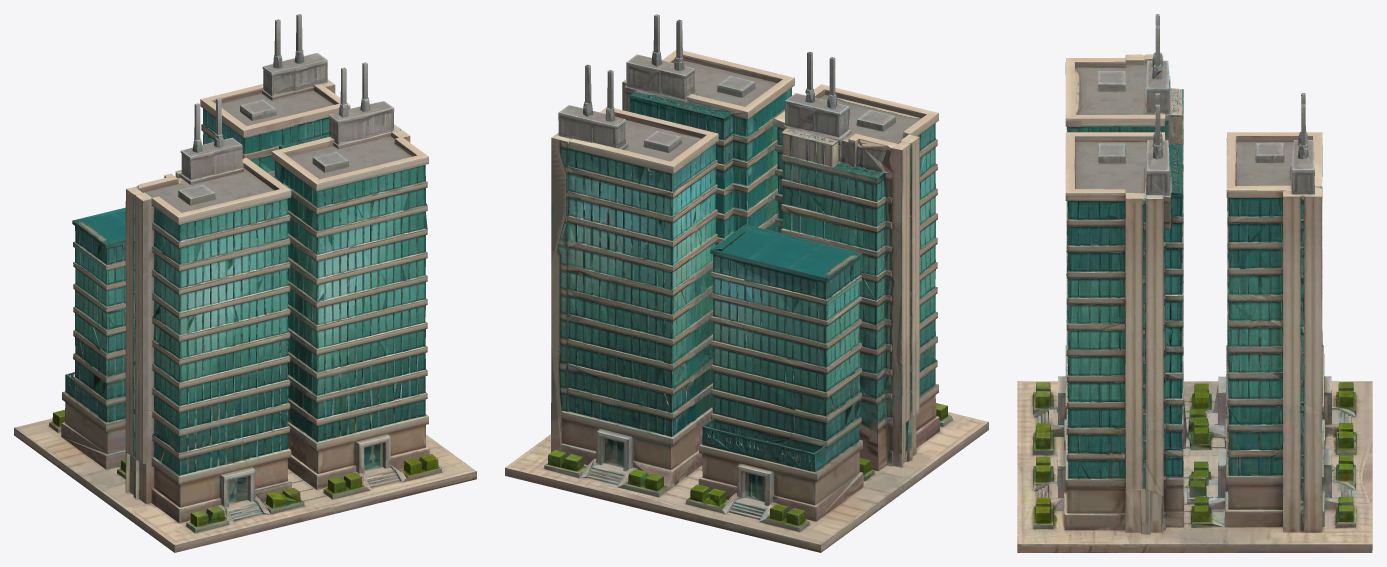
Rendered from town_office_tower_modern.glb.
The picture shows the model from 3 angles, left to right: view 1: azimuth 30°, elevation 25°; view 2: azimuth 150°, elevation 25°; view 3: azimuth 270°, elevation 25°; orthographic projection. The views are drawn at different scales.
Parts seen in each view (by area): view 1: normalize; view 2: normalize; view 3: normalize.
Boxes of the visible parts, <box> form: normalize: <box>14,14,476,552</box>; normalize: <box>505,14,988,552</box>; normalize: <box>1017,14,1372,552</box>.
Bounding box in the file's own units: 1 × 1.21 × 0.9208.
1 material, 1 textured.
